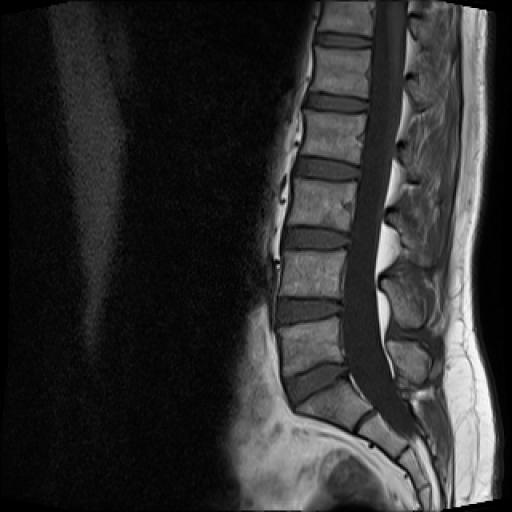L1: (312, 48, 370, 98)
L2: (301, 109, 366, 164)
L3: (288, 177, 357, 232)
L4: (282, 250, 346, 298)
L5: (279, 317, 344, 376)
S1: (295, 378, 373, 432)
